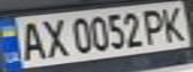0: (66, 14, 93, 54), (90, 12, 109, 52)
2: (121, 9, 145, 47)
5: (106, 11, 127, 51)
A: (15, 18, 48, 62)
K: (157, 2, 190, 43)
P: (139, 6, 169, 45)
X: (36, 16, 69, 58)
